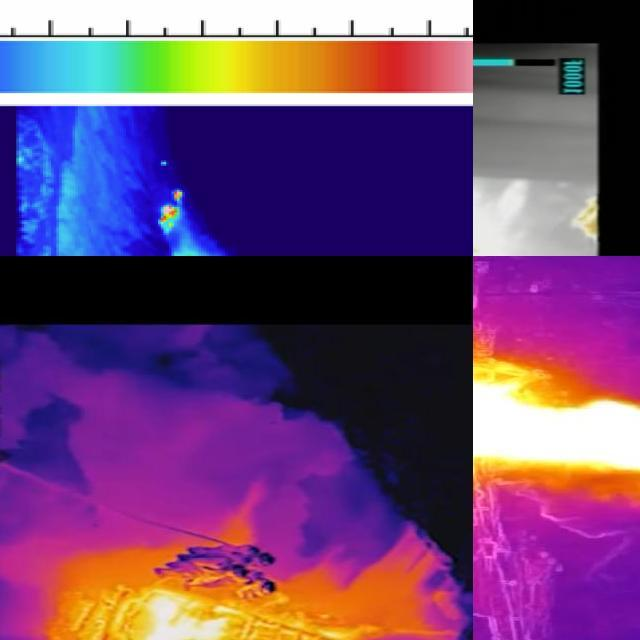fire: (474, 346, 640, 487), (124, 587, 242, 640), (155, 186, 225, 257)
